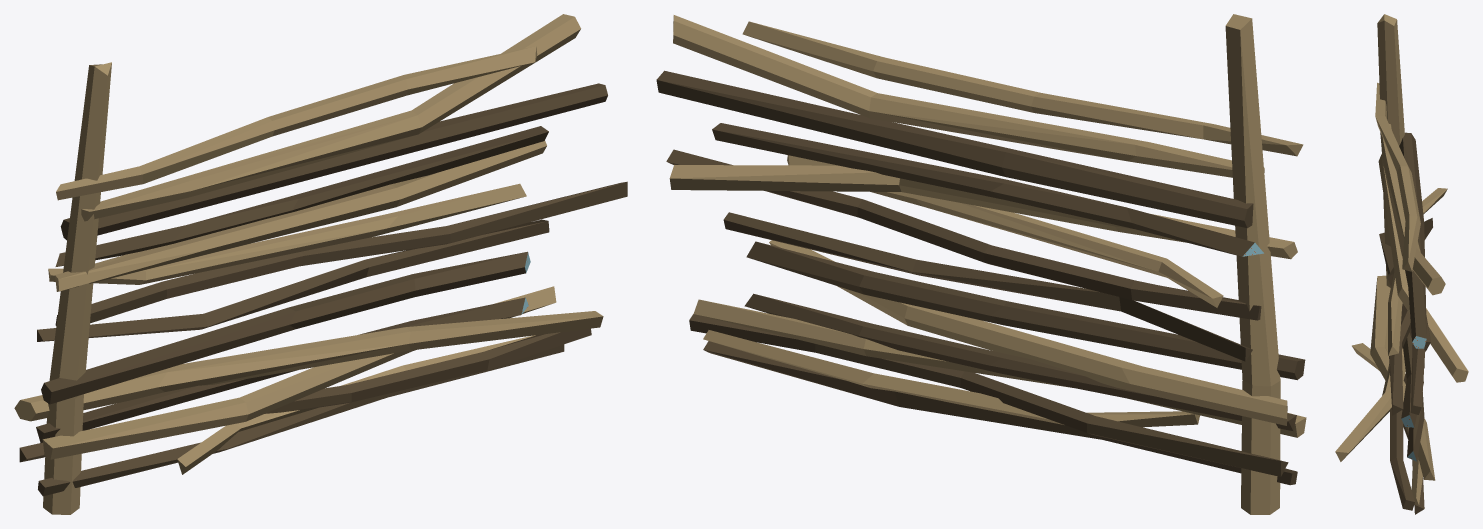
Rendered from EA03_Fence_Withy_Seam_02a.glb.
3 views of the same model, side by side, from view 1: azimuth 30°, elevation 25°; view 2: azimuth 150°, elevation 25°; view 3: azimuth 270°, elevation 25° (orthographic). The views are drawn at different scales.
Visible parts, largest first — view 1: EA03_Fence_Withy_Seam_02a; view 2: EA03_Fence_Withy_Seam_02a; view 3: EA03_Fence_Withy_Seam_02a.
Boxes of the visible parts, box(x1,y1,x2,y2) form: EA03_Fence_Withy_Seam_02a: box(14, 14, 627, 514); EA03_Fence_Withy_Seam_02a: box(656, 14, 1306, 514); EA03_Fence_Withy_Seam_02a: box(1335, 14, 1468, 514).
Bounding box in the file's own units: 2.34 × 1.68 × 0.5985.
Materials: 1 (1 with a texture image).
